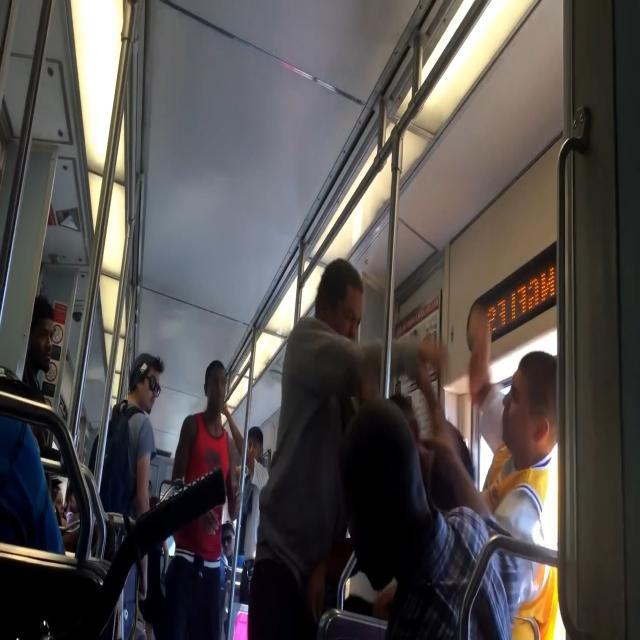non-violence: (167, 359, 249, 640), (102, 353, 166, 639), (235, 428, 270, 556), (27, 299, 61, 381), (219, 517, 235, 564), (54, 487, 69, 531)
violence: (257, 259, 558, 629)
